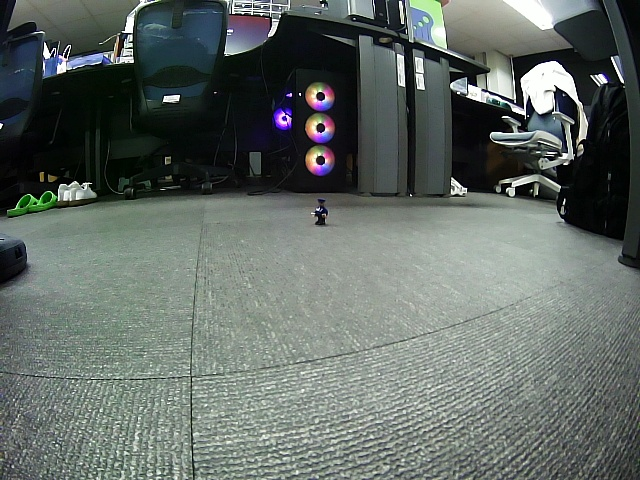person: (310, 199, 329, 226)
